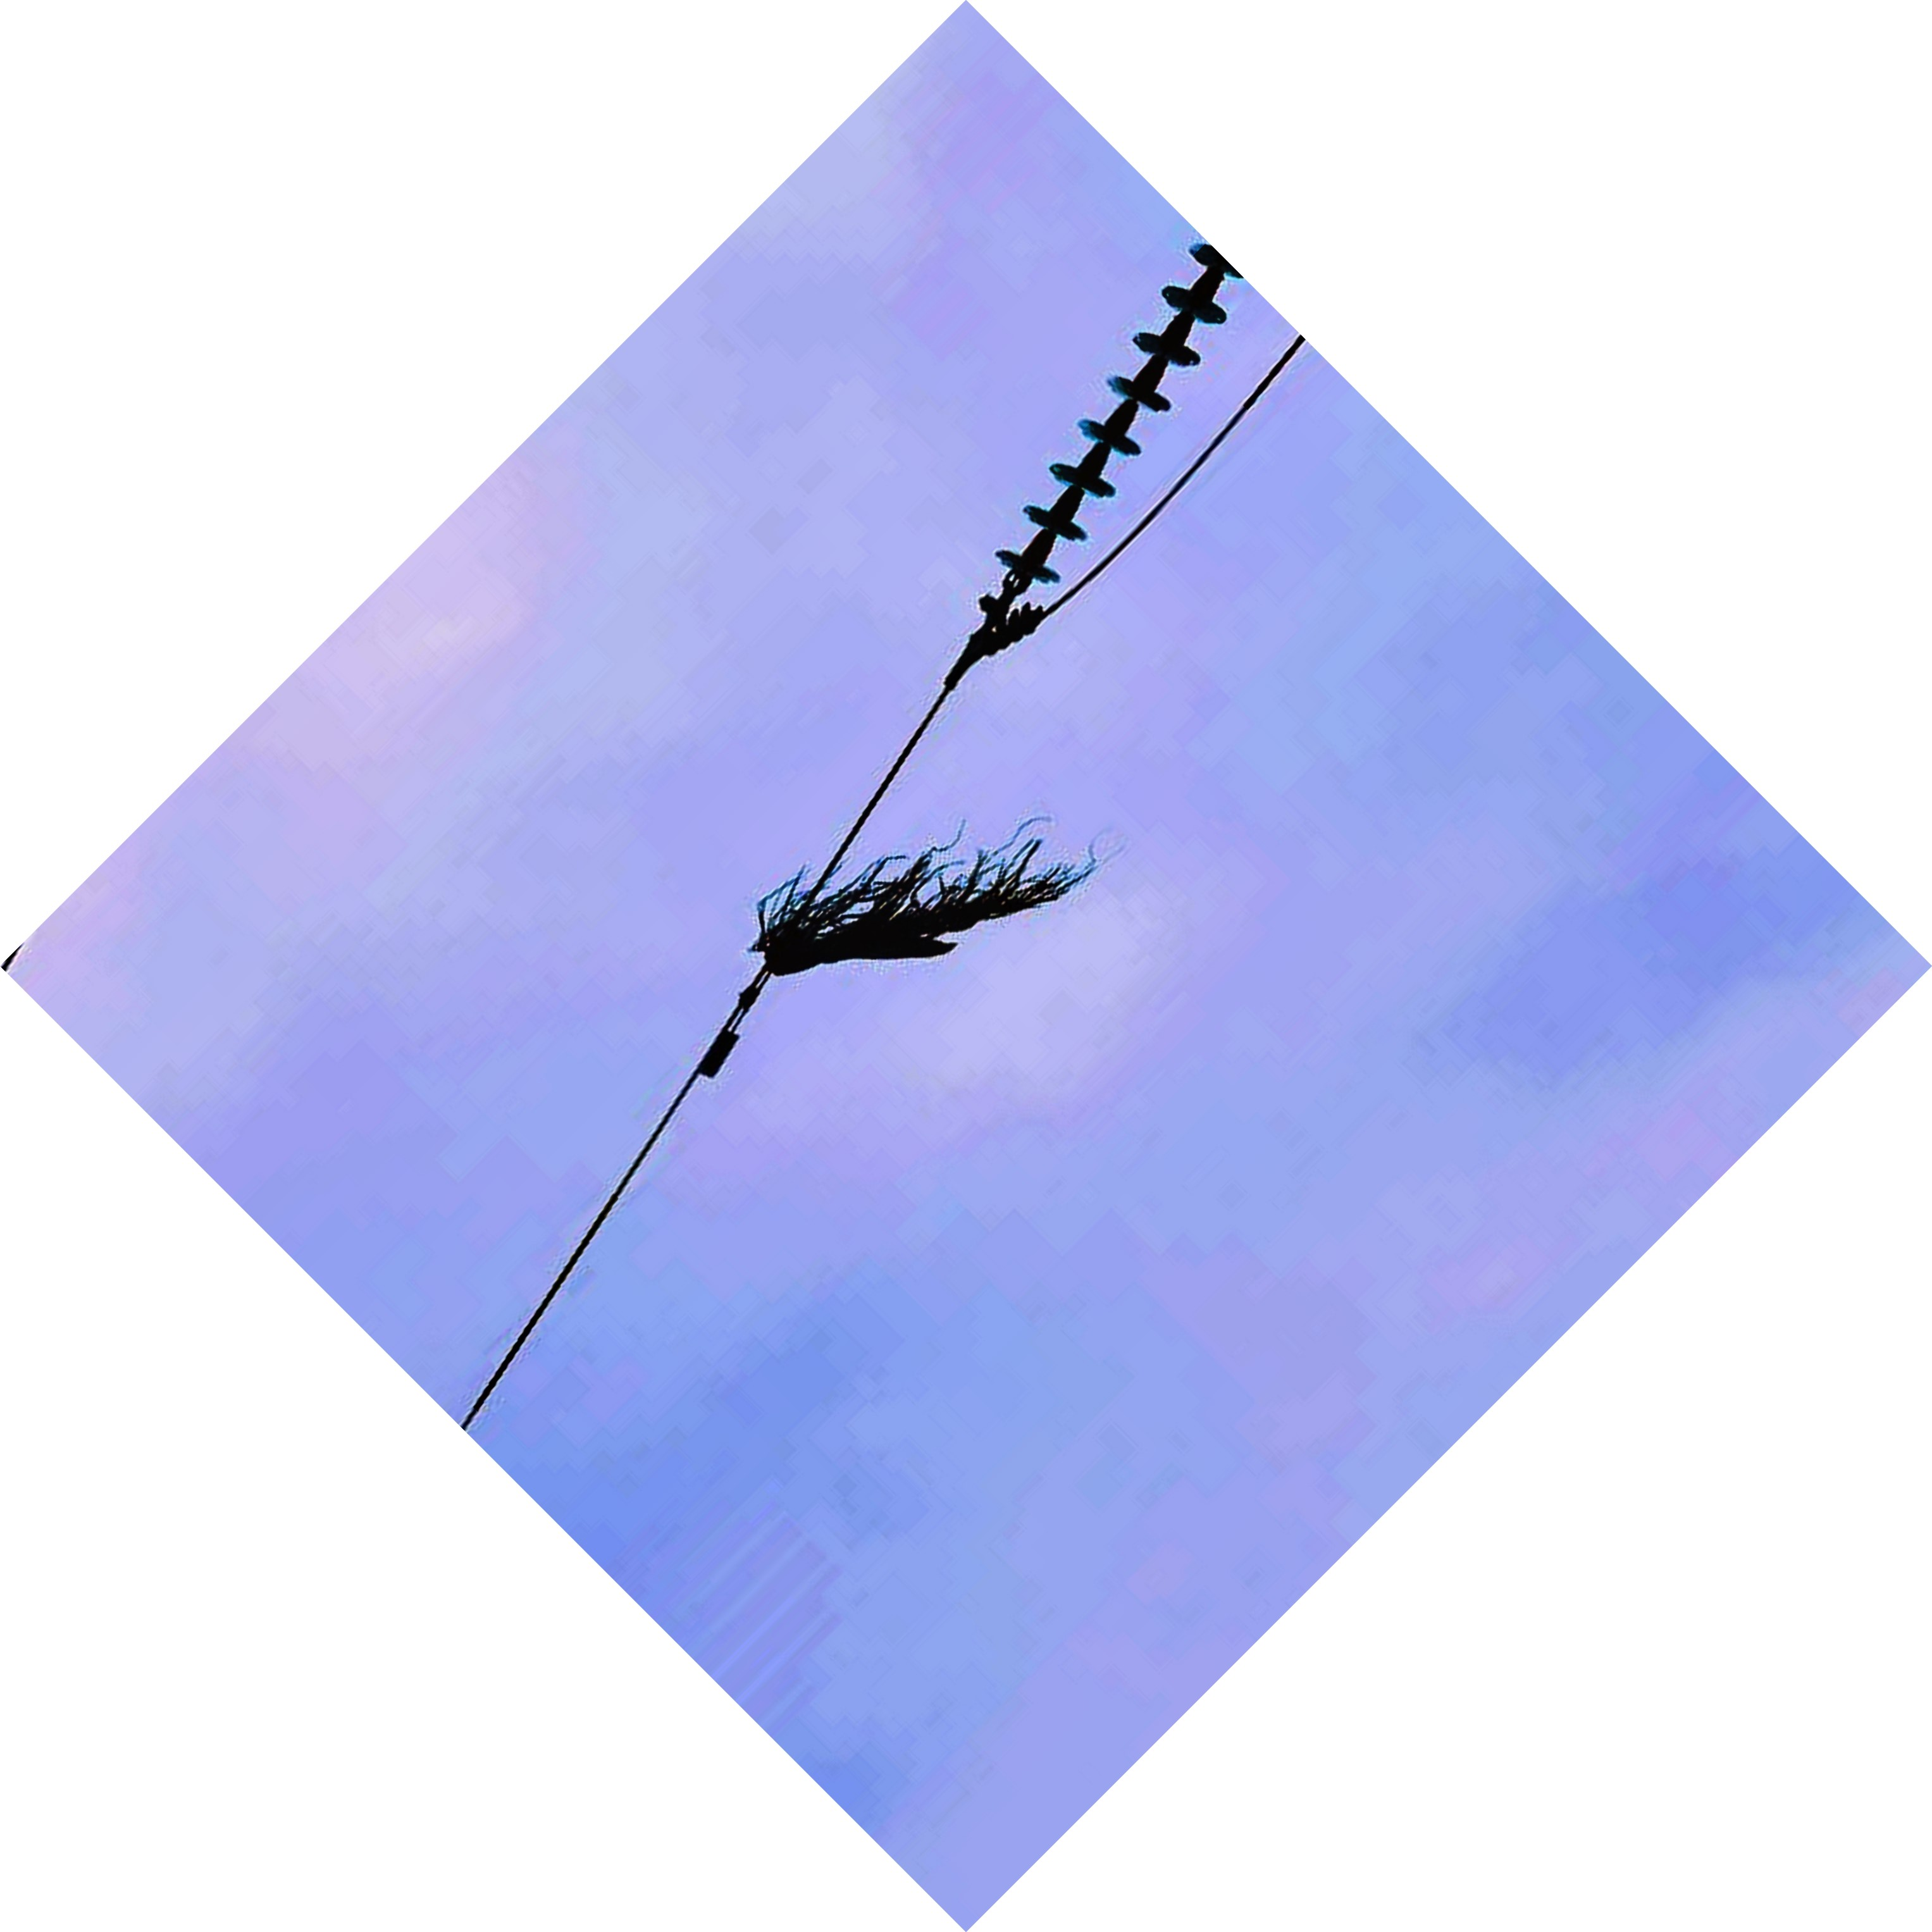wire foreign body: (713, 809, 1115, 993)
